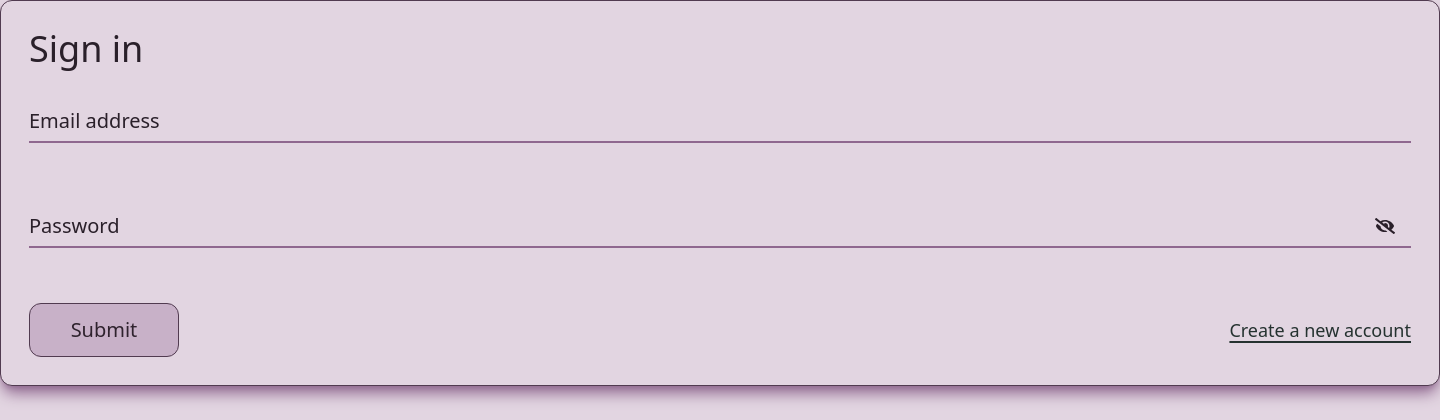
Test: AuthForm › displays create account text when secondary button is clicked
Expected: the text "Create account" is not shown
Click the button "Create a new account" at (1320, 330), box top-left (1229, 303), bottom-right (1411, 357)
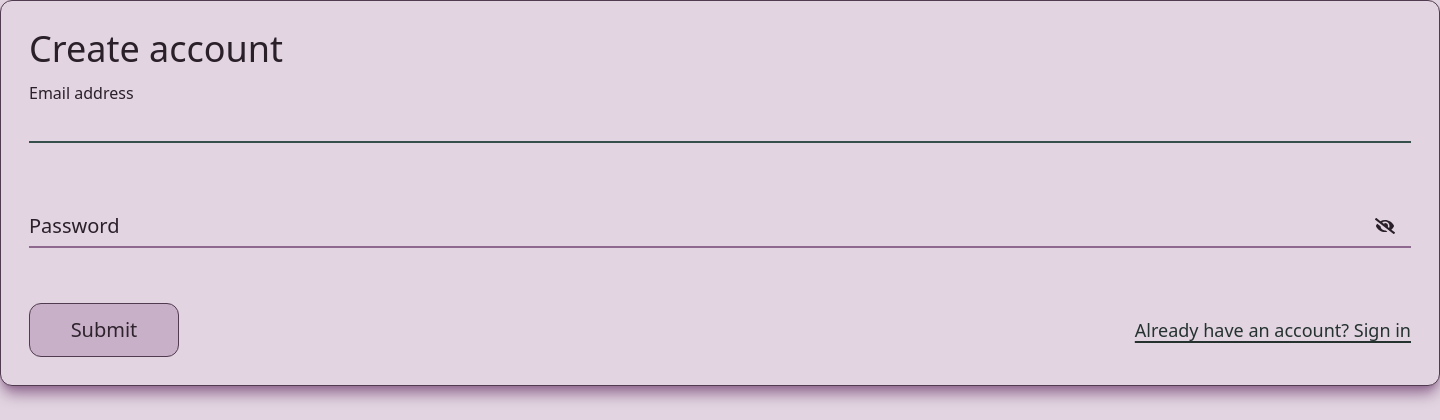
Expected: the text "Create account" is shown, top-left (29, 29), bottom-right (283, 69)
